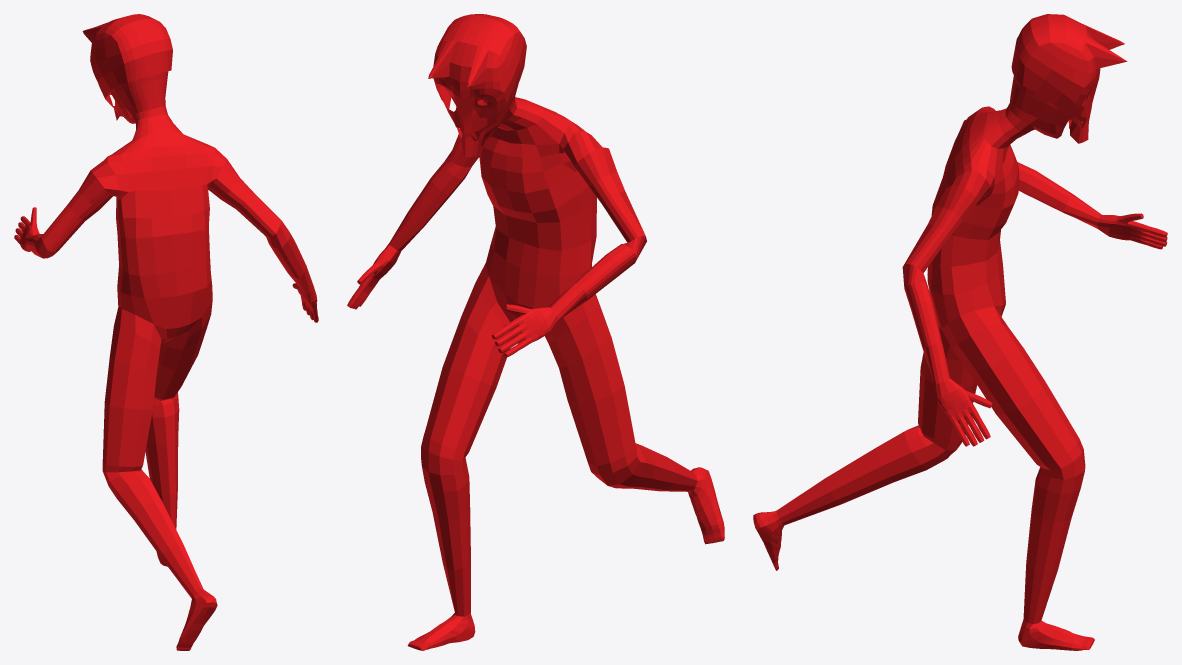
Rendered from marchaE_000056.obj.
3 views of the same model, side by side, from view 1: azimuth 30°, elevation 25°; view 2: azimuth 150°, elevation 25°; view 3: azimuth 270°, elevation 25° (orthographic). The views are drawn at different scales.
Parts seen in each view (by area): view 1: Plane.002_Plane.001; view 2: Plane.002_Plane.001; view 3: Plane.002_Plane.001.
Boxes of the visible parts, x1,y1,x2,y2 form: Plane.002_Plane.001: [14, 14, 318, 650]; Plane.002_Plane.001: [347, 14, 724, 650]; Plane.002_Plane.001: [753, 14, 1167, 650].
Bounding box in the file's own units: 3.29 × 6.53 × 4.02.
